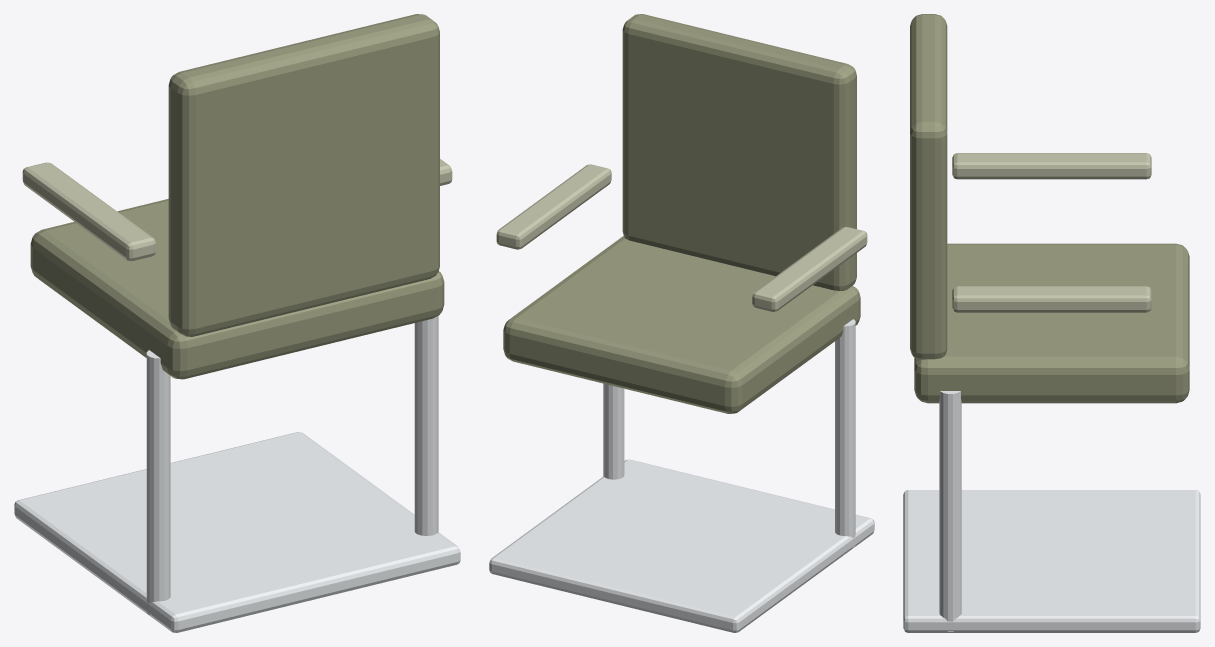
Rendered from office_lounge_seating_reference_board_15.glb.
The picture shows the model from 3 angles, left to right: view 1: azimuth 30°, elevation 25°; view 2: azimuth 150°, elevation 25°; view 3: azimuth 270°, elevation 25°; orthographic projection. The views are drawn at different scales.
Visible parts, largest first — view 1: Cube; view 2: Cube; view 3: Cube.
Boxes of the visible parts, x1,y1,x2,y2 form: Cube: [14, 14, 460, 632]; Cube: [489, 14, 874, 632]; Cube: [903, 14, 1200, 632].
Size of the model in its own units: 0.554 by 0.885 by 0.4756.
